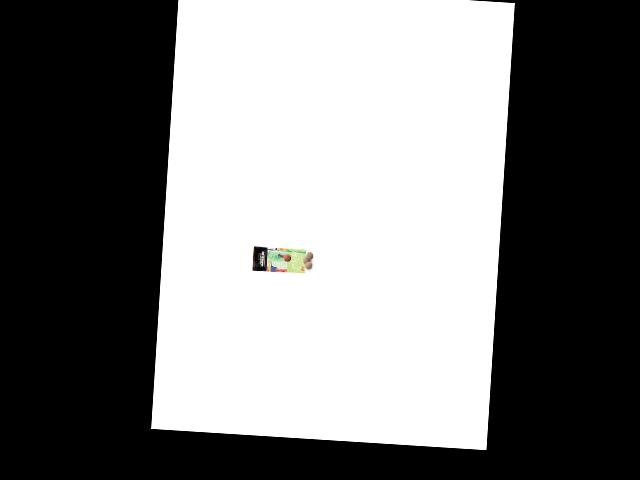chocolate: (249, 240, 307, 277)
